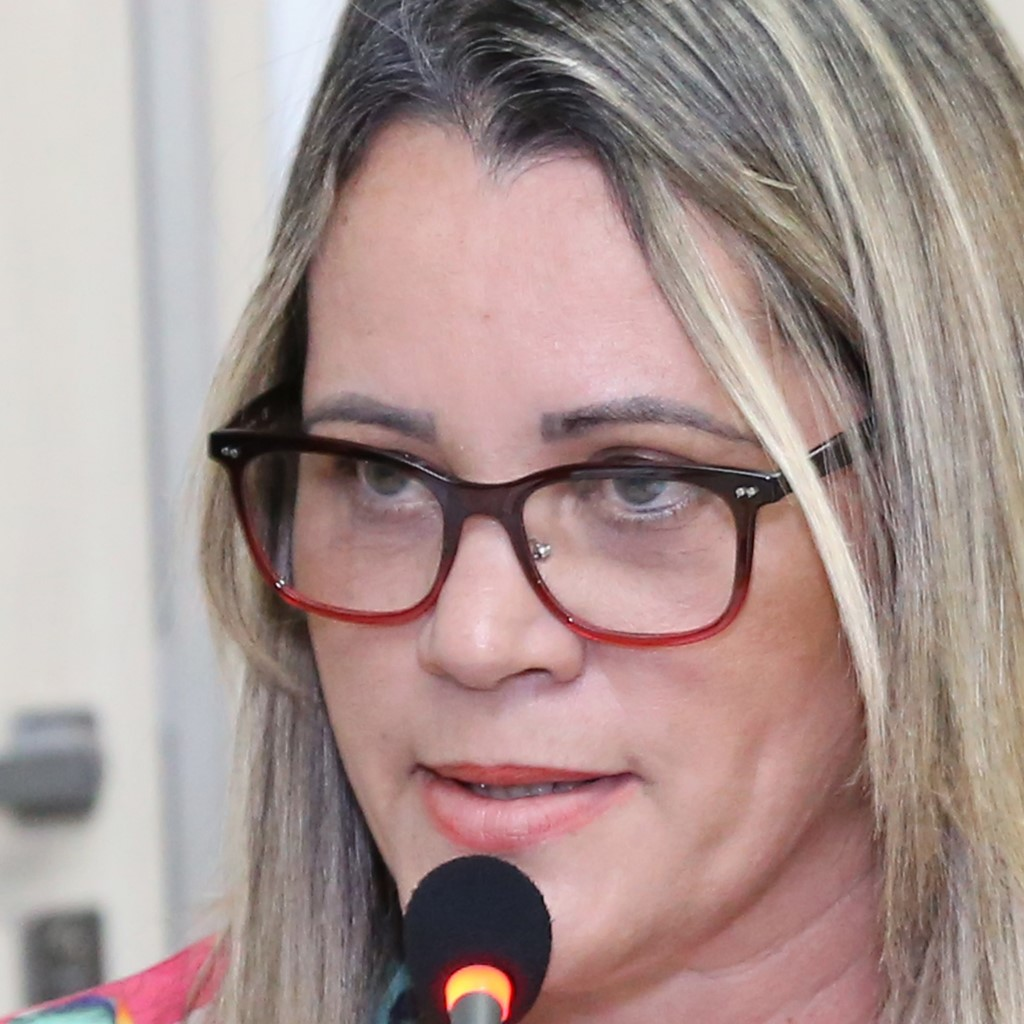sin_mascara: (267, 79, 908, 999)
